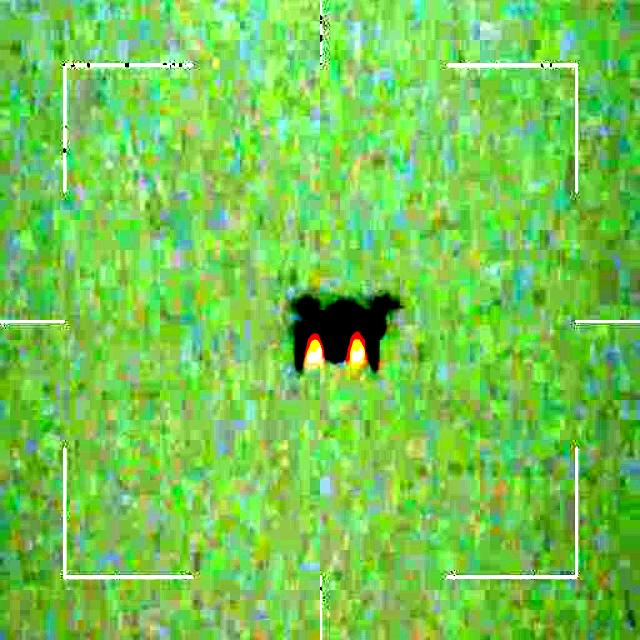bird: (289, 291, 400, 374)
